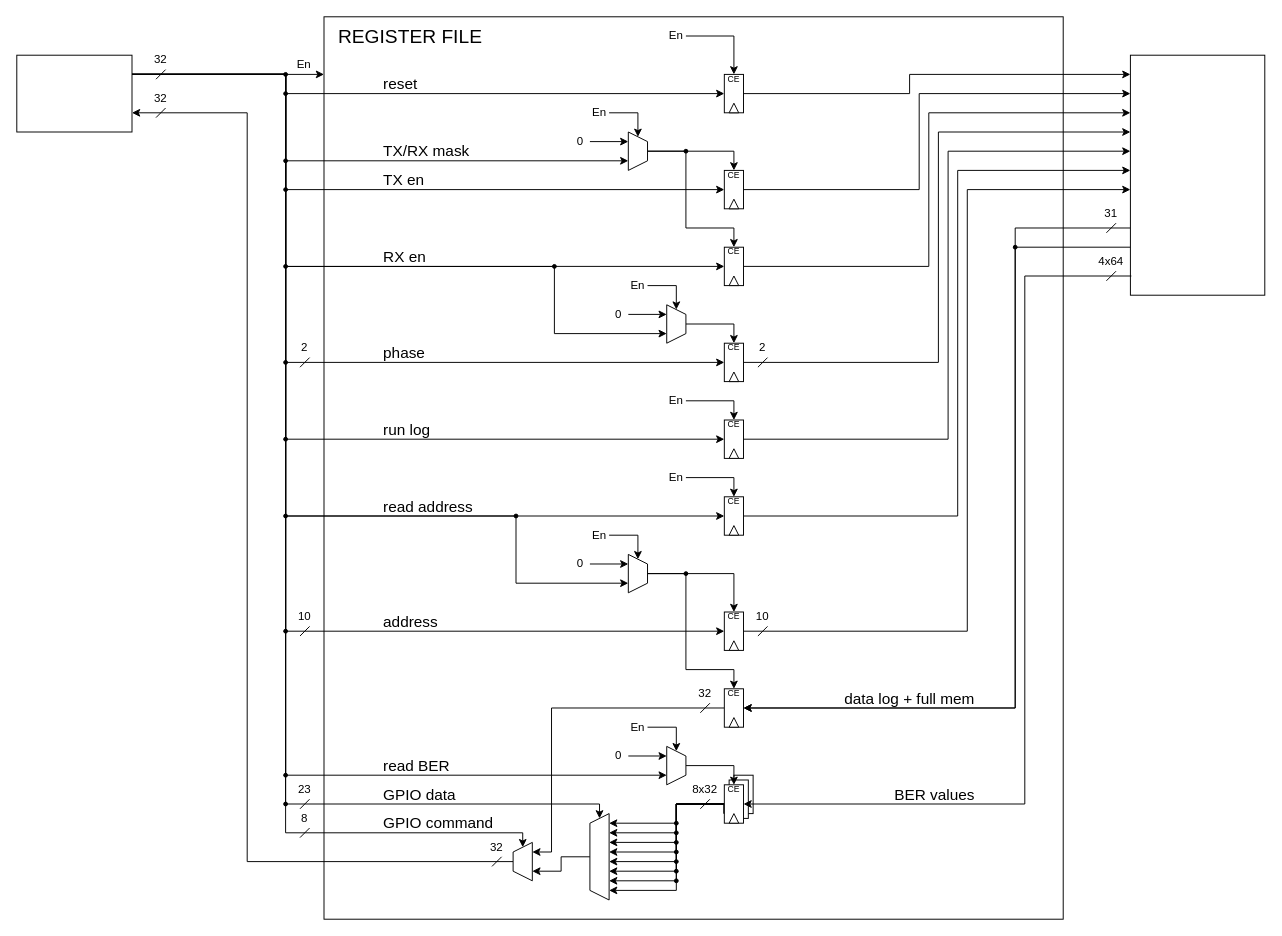
Some shapes in this 1282 by 936 pixel diagram are drawn without their labels. Each missing label, with the box of its shape:
DSP: (1129, 54, 1265, 295)
GPIO: (16, 54, 132, 132)
